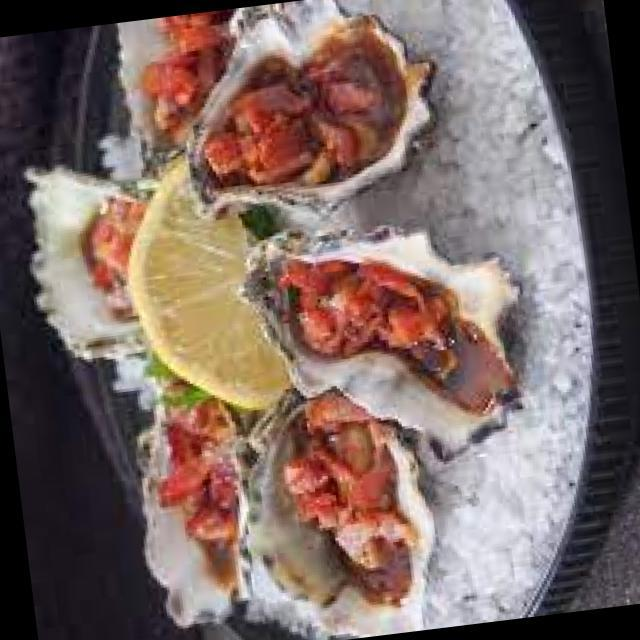Oyster-Closed: (260, 239, 516, 449), (236, 393, 434, 632), (187, 19, 433, 210), (113, 356, 252, 630), (25, 167, 153, 384), (116, 14, 240, 187)
